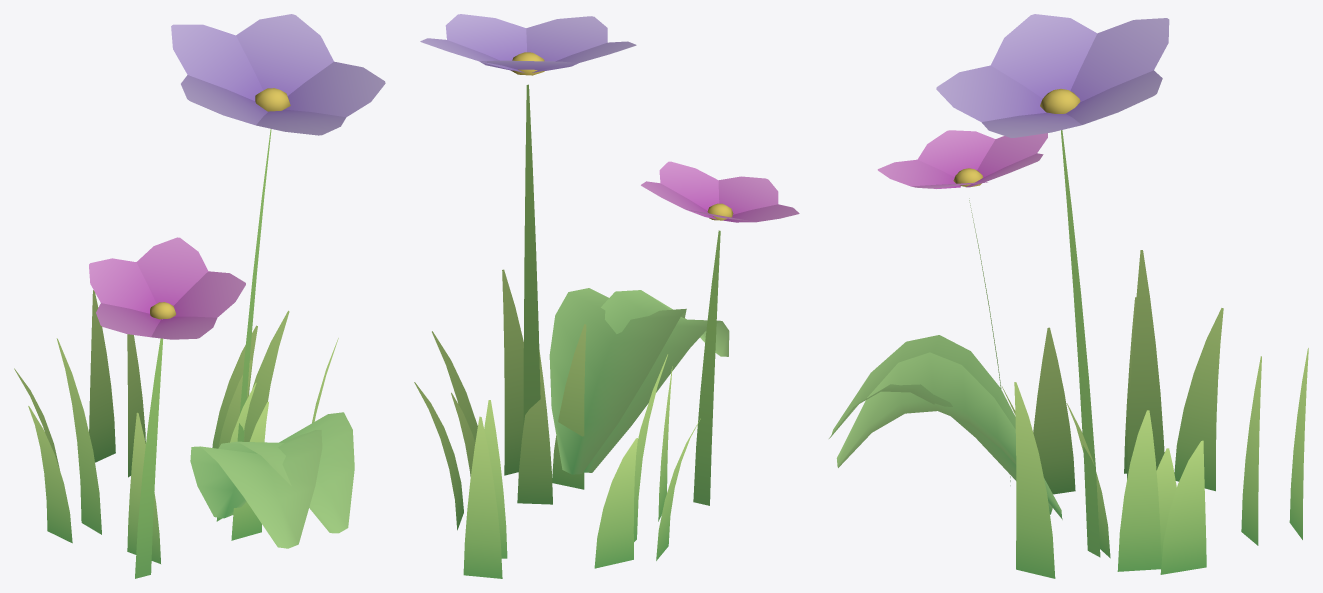
File: plant_wild_3.glb
The picture shows the model from 3 angles, left to right: view 1: azimuth 30°, elevation 25°; view 2: azimuth 150°, elevation 25°; view 3: azimuth 270°, elevation 25°; orthographic projection. The views are drawn at different scales.
Parts seen in each view (by area): view 1: body; view 2: body; view 3: body.
Part boxes in pixels (x1,y1,x2,y2): body: [14, 14, 385, 578]; body: [414, 14, 799, 578]; body: [829, 14, 1308, 578].
Size of the model in its own units: 0.476 by 0.687 by 0.5766.
